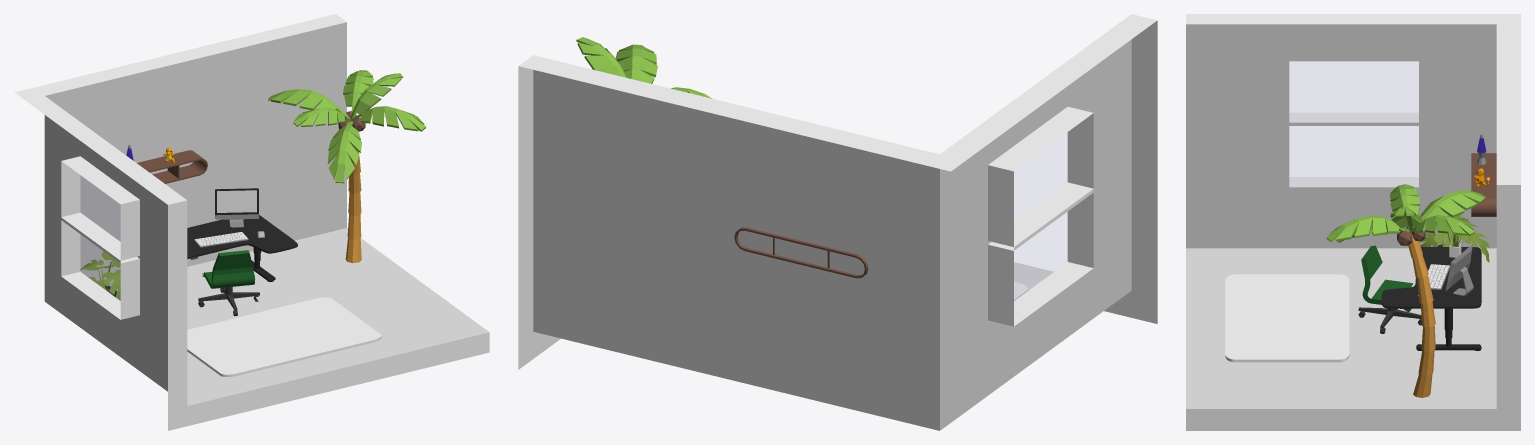
3 renders of one model, left to right at view 1: azimuth 30°, elevation 25°; view 2: azimuth 150°, elevation 25°; view 3: azimuth 270°, elevation 25°, orthographic. The views are drawn at different scales.
Visible parts, largest first — view 1: Plane.001, WawaRug, palm_tree_01, Desk, Chair, iMac, SM_Shelf:SM_Shelf1, Houseplant_7, keyboard; view 2: Plane.001, palm_tree_01, SM_Shelf:SM_Shelf1; view 3: Plane.001, WawaRug, palm_tree_01, Desk, Chair, SM_Shelf:SM_Shelf1, Houseplant_7, iMac, keyboard.
Part boxes in pixels (<box>): Plane.001: <box>14,14,489,430</box>; WawaRug: <box>187,297,381,376</box>; palm_tree_01: <box>268,70,425,263</box>; Desk: <box>187,215,297,281</box>; Chair: <box>198,250,259,316</box>; iMac: <box>215,188,259,227</box>; SM_Shelf:SM_Shelf1: <box>137,150,207,183</box>; Houseplant_7: <box>80,251,120,300</box>; keyboard: <box>194,232,248,247</box>; Plane.001: <box>518,14,1157,430</box>; palm_tree_01: <box>576,37,711,98</box>; SM_Shelf:SM_Shelf1: <box>734,227,868,278</box>; Plane.001: <box>1186,14,1520,430</box>; WawaRug: <box>1225,274,1349,362</box>; palm_tree_01: <box>1326,184,1486,397</box>; Desk: <box>1381,247,1481,350</box>; Chair: <box>1358,245,1421,333</box>; SM_Shelf:SM_Shelf1: <box>1471,153,1496,216</box>; Houseplant_7: <box>1406,214,1490,262</box>; iMac: <box>1445,244,1473,296</box>; keyboard: <box>1428,264,1449,289</box>.
Size of the model in its own units: 5.92 by 3.84 by 4.74.
